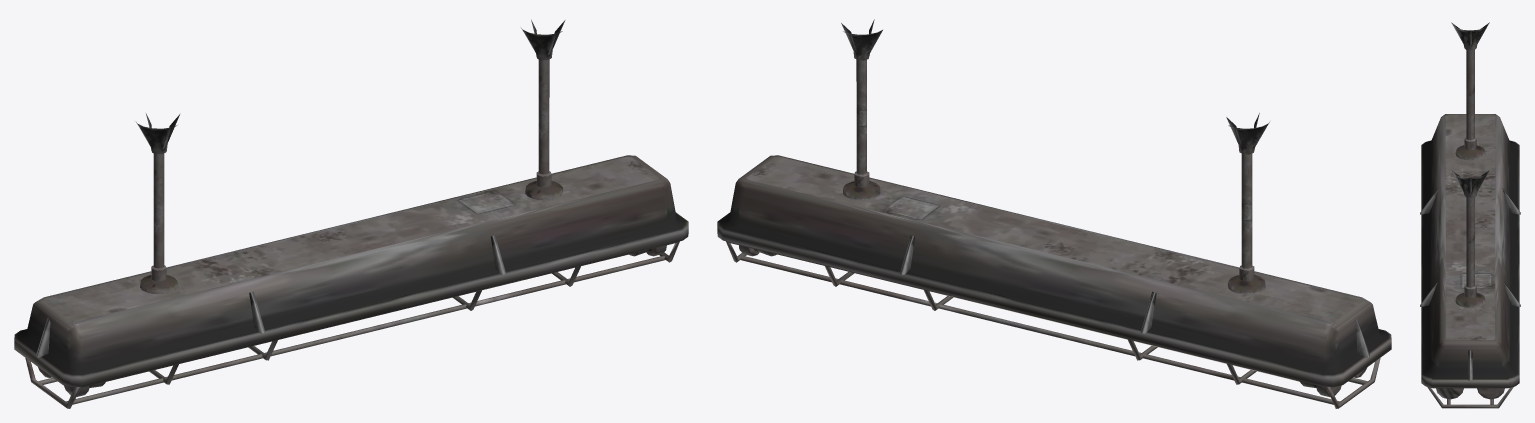
Rendered from plight.fluorescent_b.on.warm.glb.
3 views of the same model, side by side, from view 1: azimuth 30°, elevation 25°; view 2: azimuth 150°, elevation 25°; view 3: azimuth 270°, elevation 25° (orthographic). The views are drawn at different scales.
Visible parts, largest first — view 1: plight.fluorescent_b.on.warm; view 2: plight.fluorescent_b.on.warm; view 3: plight.fluorescent_b.on.warm.
Boxes of the visible parts, x1,y1,x2,y2 form: plight.fluorescent_b.on.warm: (14, 19, 688, 408); plight.fluorescent_b.on.warm: (717, 19, 1391, 408); plight.fluorescent_b.on.warm: (1420, 22, 1520, 408).
Size of the model in its own units: 1.47 by 0.5625 by 0.2604.
1 material, 1 textured.
